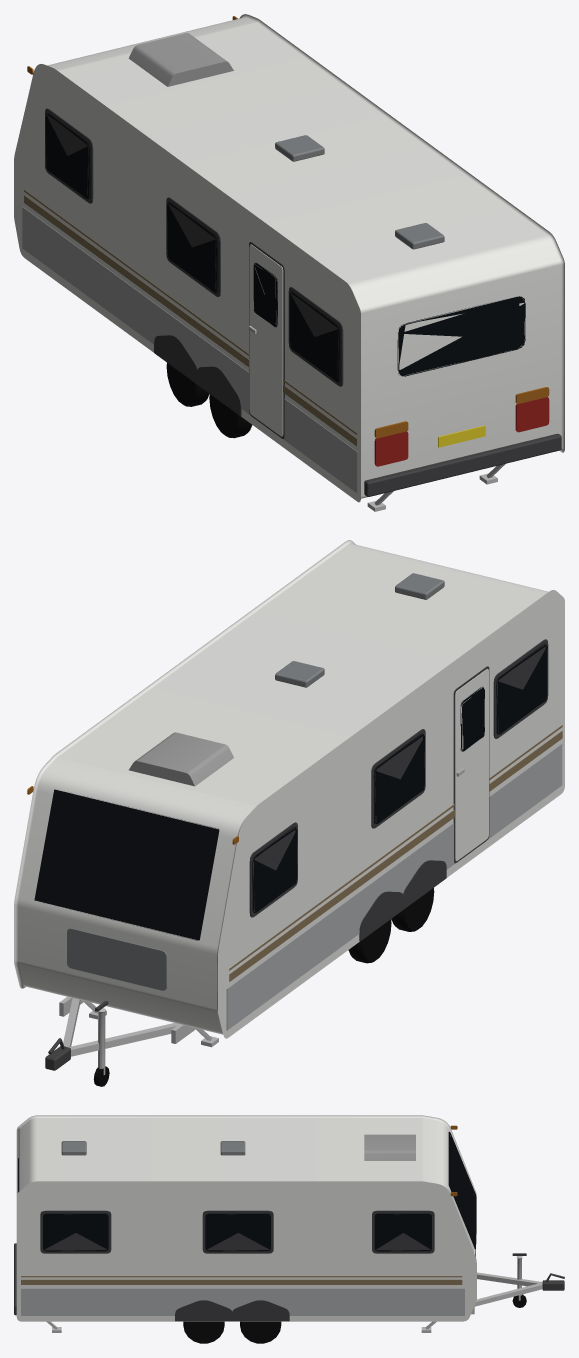
The model's file is vehicle.towed.touring_caravan_b.glb.
The picture shows the model from 3 angles, top to bottom: view 1: azimuth 30°, elevation 25°; view 2: azimuth 150°, elevation 25°; view 3: azimuth 270°, elevation 25°; orthographic projection. The views are drawn at different scales.
Parts seen in each view (by area): view 1: main__paint_ddd, main__glass_dark, main__paint_aaa, main__enamel_444, main__lens_999, main__paint_875, main__lens_922, main__rubber, main__enamel_778, main__lens_962; view 2: main__paint_ddd, main__glass_dark, main__paint_aaa, main__enamel_444, main__enamel_778, main__lens_999, main__paint_875, main__galv_bbb, main__rubber; view 3: main__paint_ddd, main__paint_aaa, main__glass_dark, main__enamel_444, main__paint_875, main__rubber, main__lens_999, main__galv_bbb, main__enamel_778, main__paint_444.
Boxes of the visible parts, bbox=[...] form: main__paint_ddd: bbox=[14, 14, 564, 502]; main__glass_dark: bbox=[45, 113, 525, 382]; main__paint_aaa: bbox=[22, 207, 357, 493]; main__enamel_444: bbox=[45, 108, 561, 496]; main__lens_999: bbox=[128, 33, 233, 86]; main__paint_875: bbox=[24, 189, 357, 446]; main__lens_922: bbox=[374, 397, 549, 466]; main__rubber: bbox=[166, 363, 252, 438]; main__enamel_778: bbox=[275, 135, 444, 249]; main__lens_962: bbox=[27, 16, 549, 438]; main__paint_ddd: bbox=[14, 540, 564, 1038]; main__glass_dark: bbox=[34, 643, 547, 940]; main__paint_aaa: bbox=[226, 744, 562, 1030]; main__enamel_444: bbox=[249, 639, 548, 941]; main__enamel_778: bbox=[67, 573, 444, 990]; main__lens_999: bbox=[129, 732, 233, 786]; main__paint_875: bbox=[229, 725, 562, 981]; main__galv_bbb: bbox=[59, 996, 218, 1074]; main__rubber: bbox=[93, 888, 434, 1086]; main__paint_ddd: bbox=[16, 1115, 476, 1321]; main__paint_aaa: bbox=[21, 1288, 464, 1315]; main__glass_dark: bbox=[18, 1132, 476, 1251]; main__enamel_444: bbox=[14, 1210, 434, 1321]; main__paint_875: bbox=[21, 1276, 462, 1284]; main__rubber: bbox=[183, 1294, 526, 1343]; main__lens_999: bbox=[364, 1134, 415, 1160]; main__galv_bbb: bbox=[46, 1256, 542, 1332]; main__enamel_778: bbox=[61, 1141, 475, 1256]; main__paint_444: bbox=[512, 1253, 564, 1290].
Size of the model in its own units: 2.32 by 2.72 by 7.98.
